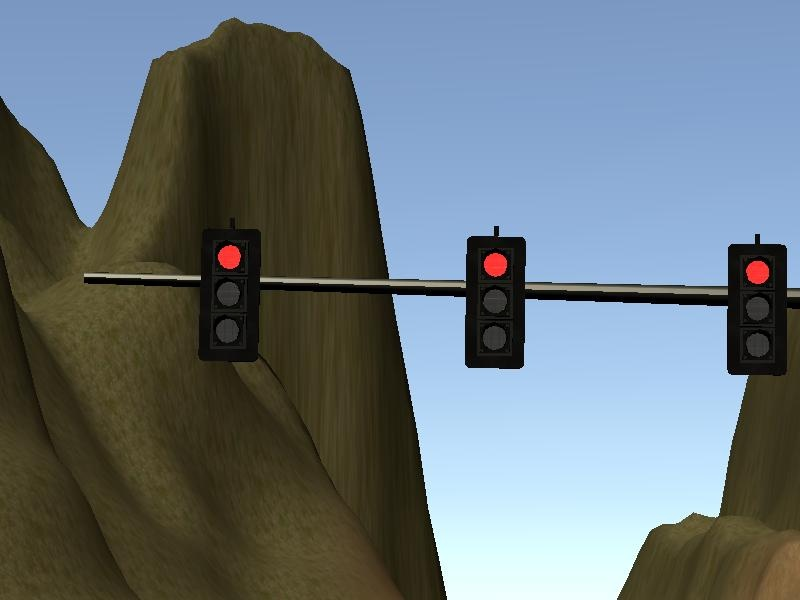red: (459, 226, 534, 379), (720, 235, 794, 382), (199, 219, 264, 373)
